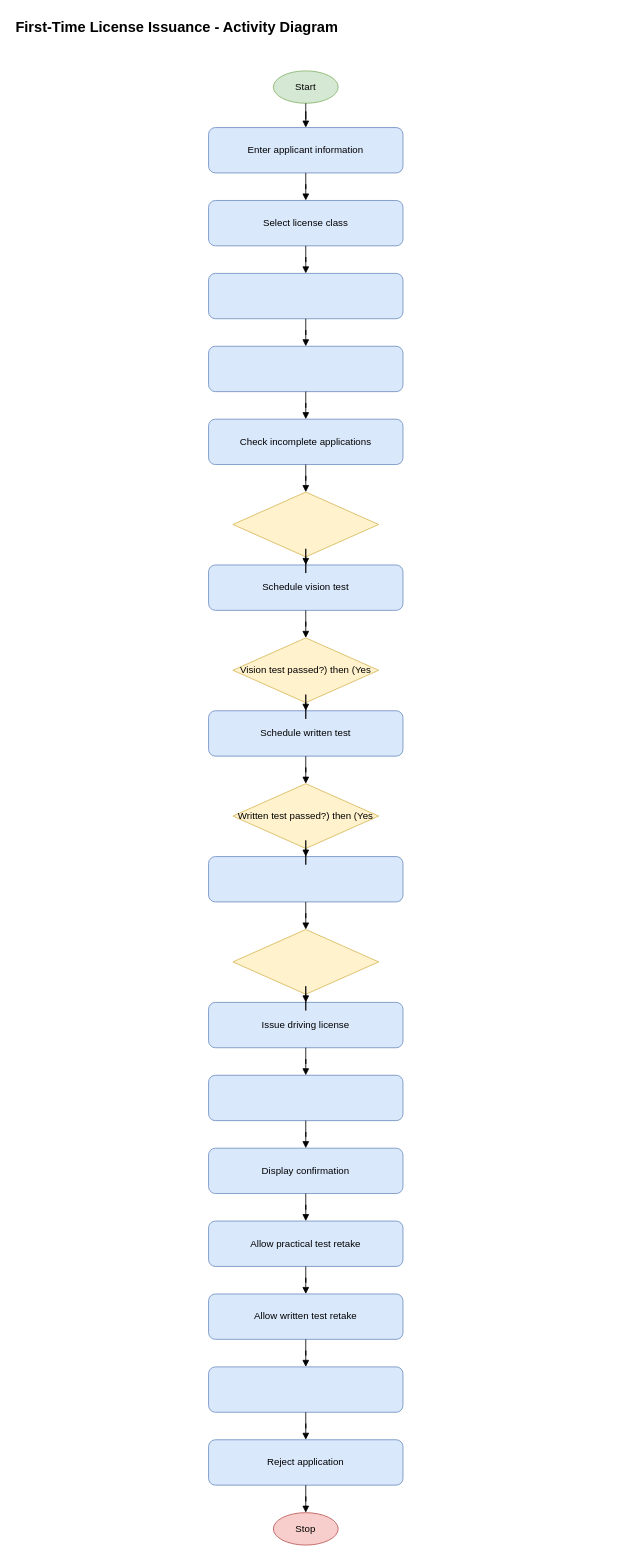
The diagram is 643 pixels wide and 1559 high, and some of its shapes have lost their labels. The shapes that lost their labels are listed below. From the top down, each one's centre as x and y in pixels, then its label:
At (x=305, y=296): "Validate minimum age".
At (x=305, y=368): "Check duplicate license class".
At (x=305, y=524): "Applicant eligible?) then (Yes".
At (x=305, y=879): "Schedule practical test".
At (x=305, y=961): "Practical test passed?) then (Yes".
At (x=305, y=1097): "Create driver record if needed".
At (x=305, y=1389): "Allow vision test retake".
